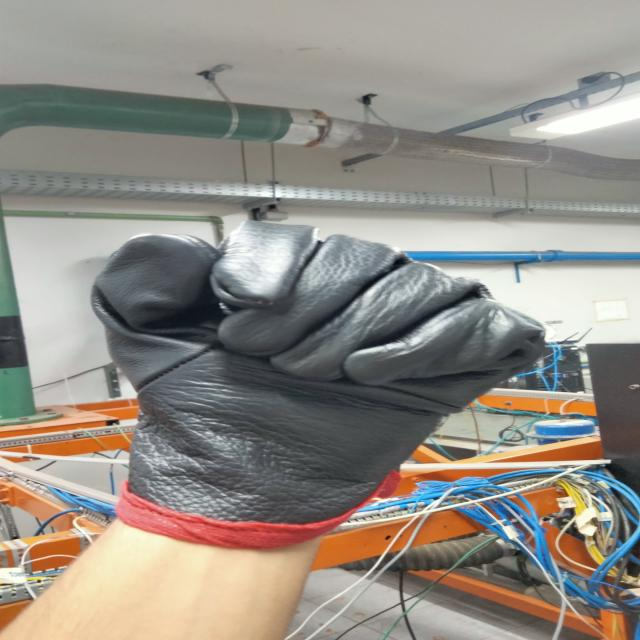Gloves: (74, 217, 523, 543)
